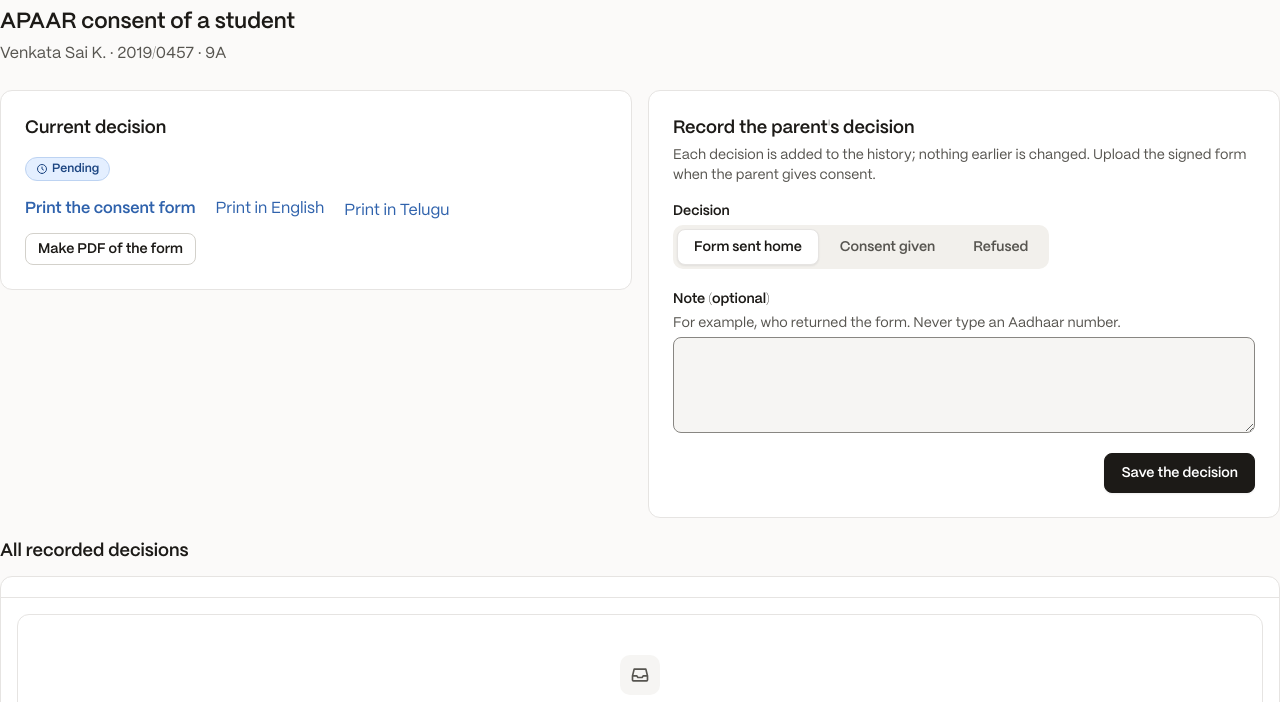
Test: US-1901 recording a decision › records a refusal without a form, with If-Match and an idempotency key
The width and height of the screenshot is (1280, 702).
Click the radio button labelled "Refused". click: (1001,247)
box: [973,240,1028,254]
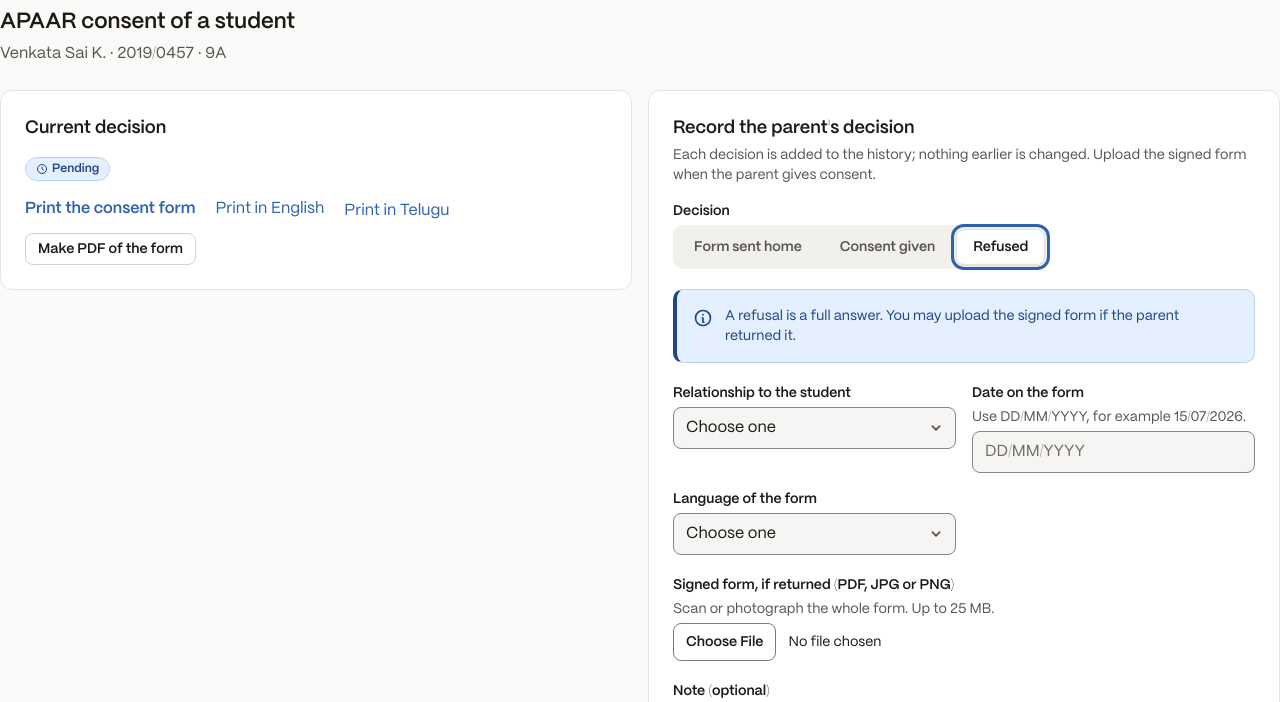
Select "Father" in the dropdown labelled "Relationship to the student". click: (814,428)
box: [673,407,956,449]
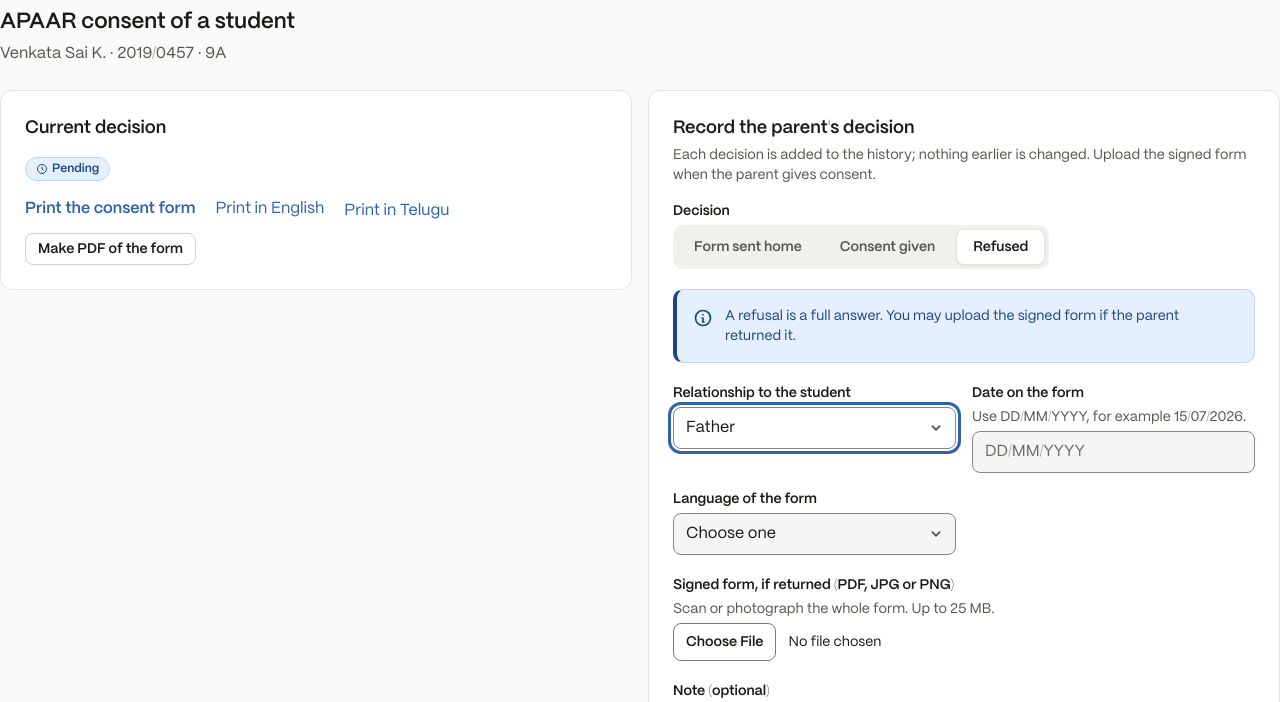
Type "15/07/2026" into the field labelled "Date on the form". click: (1114,452)
box: [972,431,1255,473]
(page scrolled)
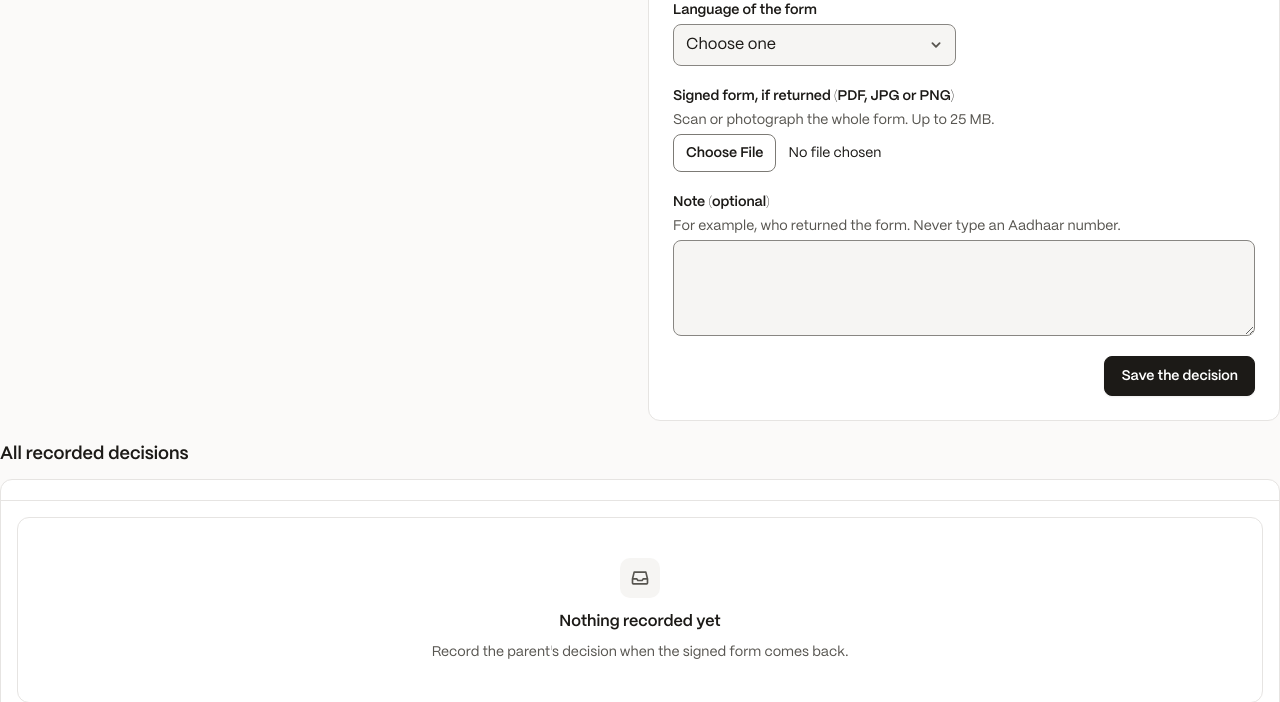
Click the button "Save the decision". click: (1180,376)
box: [1104,356,1255,396]
(page scrolled)
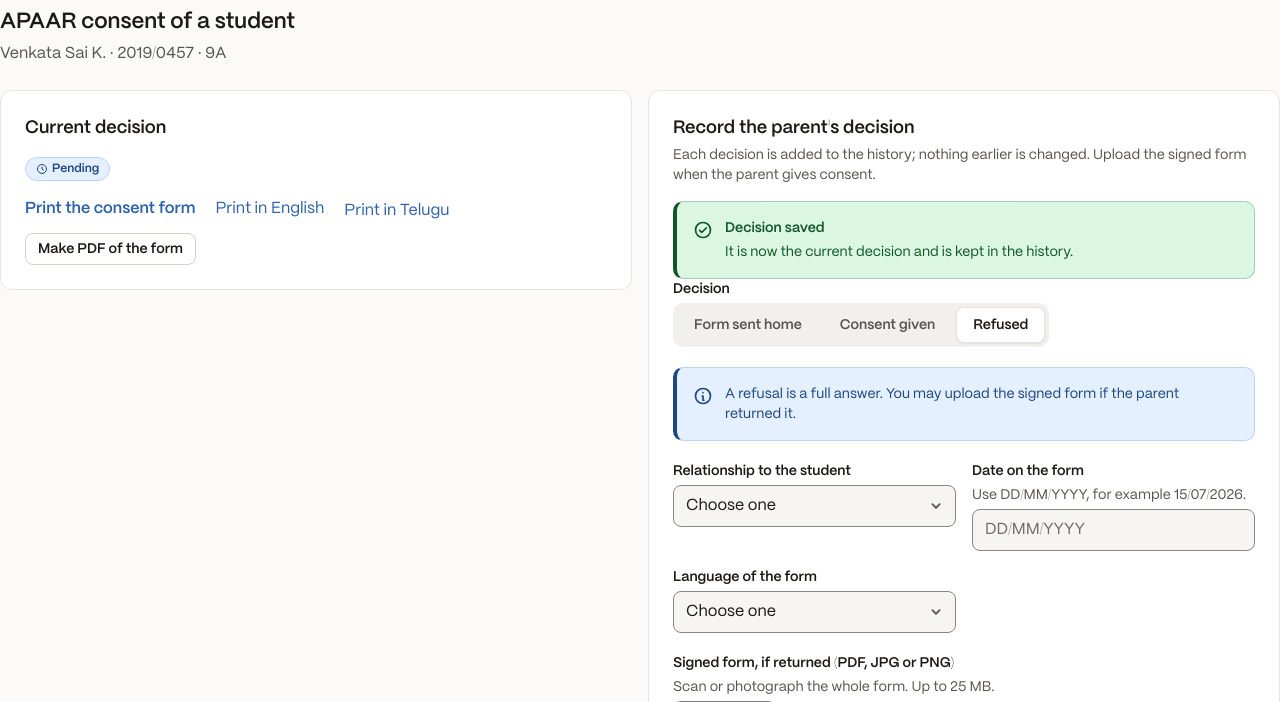
Expected: the text "Decision saved" is shown, [725,221,825,235]
